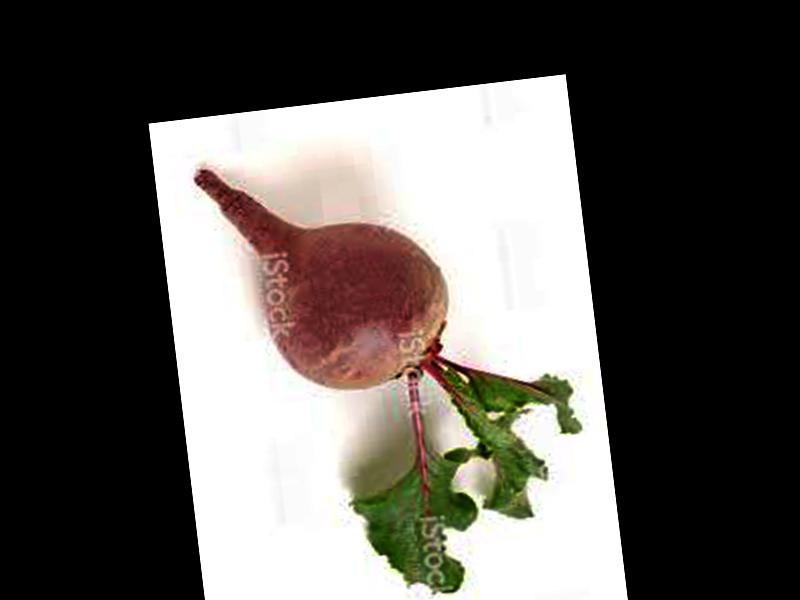Beet: (195, 130, 599, 600)
